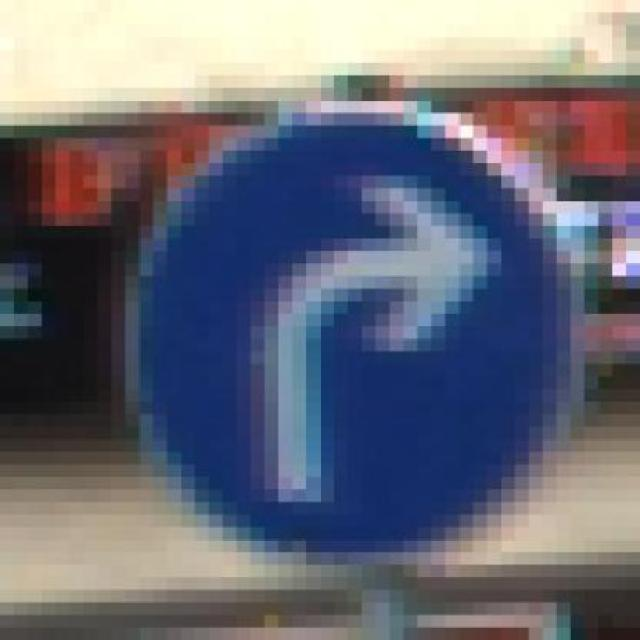Turn right ahead: (97, 112, 571, 565)
